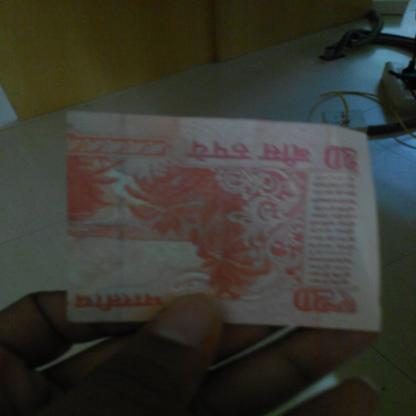Old20Back: (65, 110, 382, 333)
